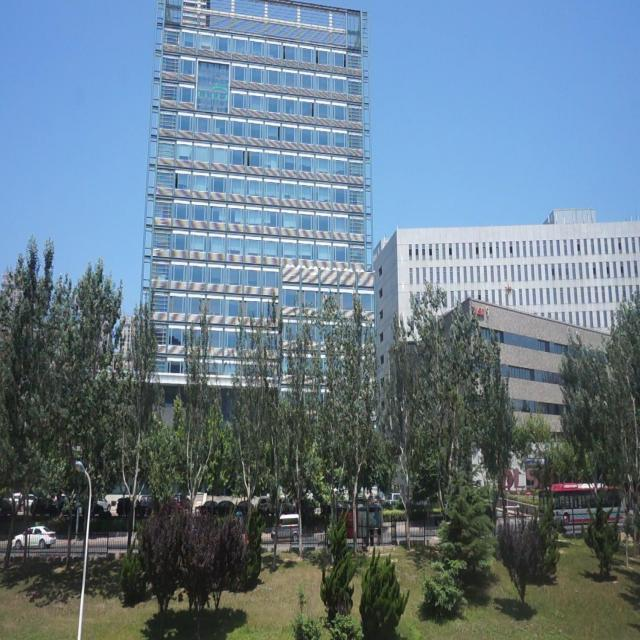UAV: (504, 283, 516, 296)
